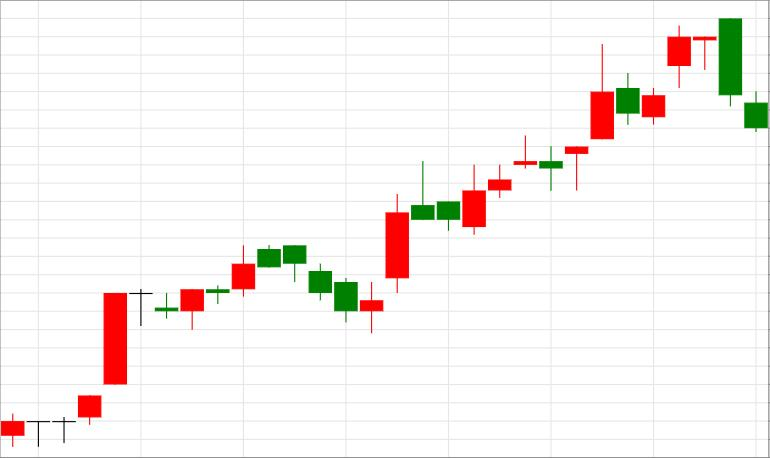bearish_engulfing_fall: (565, 19, 742, 190)
